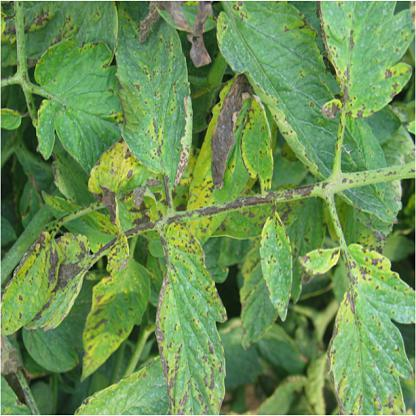tomato leaf bacterial spot: (216, 1, 400, 218), (145, 222, 243, 411), (325, 231, 415, 415), (110, 19, 200, 197), (31, 43, 145, 180), (76, 252, 149, 388), (1, 223, 61, 341), (255, 209, 297, 325), (237, 99, 276, 195), (295, 246, 343, 280)
